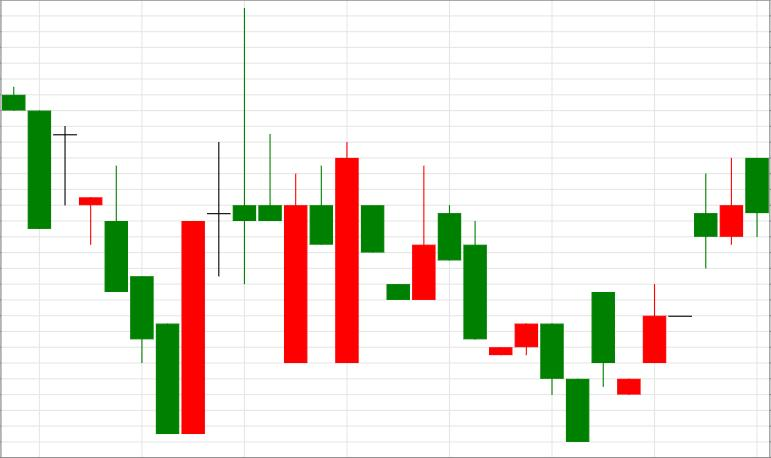bullish_engulfing_rise: (53, 126, 206, 434)
shooting_star_fall: (617, 158, 742, 396)
